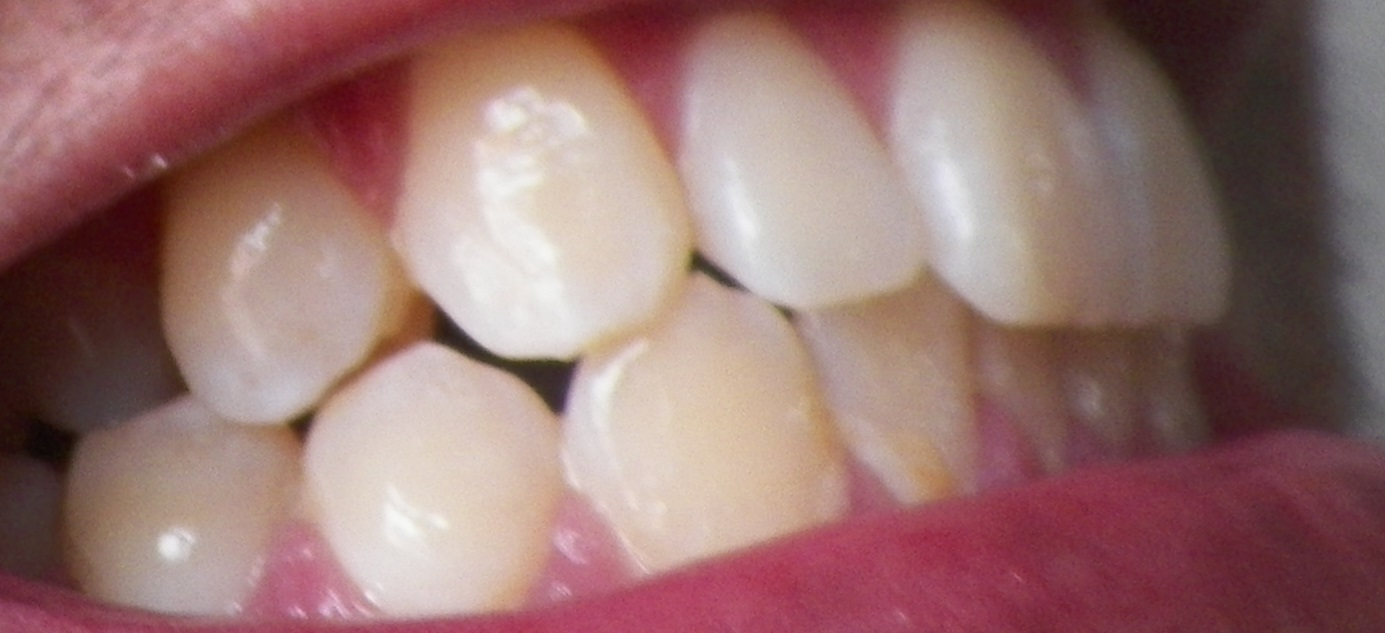boca: (53, 20, 1237, 604)
